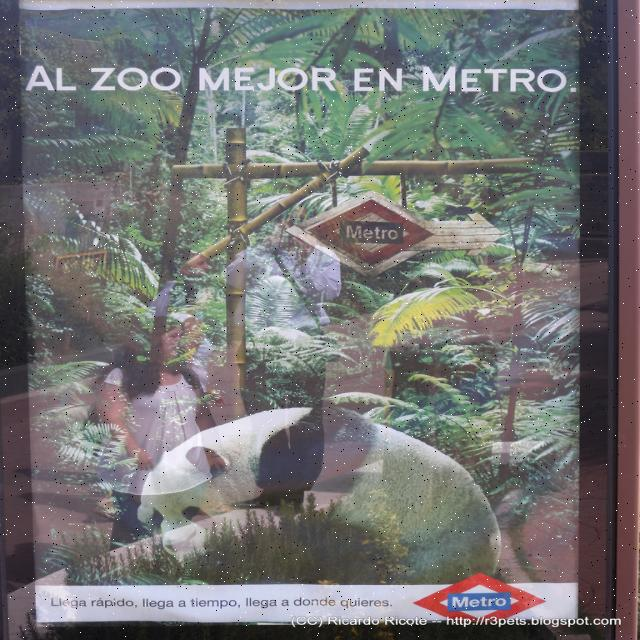panda: (113, 398, 506, 590)
